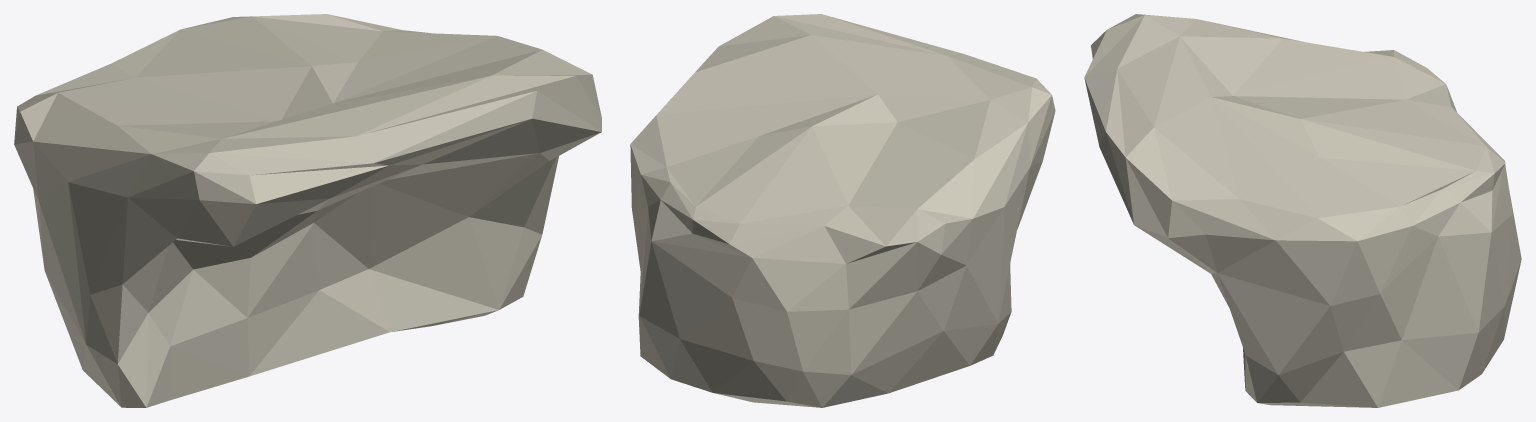
File: Cliff_01.fbx
The picture shows the model from 3 angles, left to right: view 1: azimuth 30°, elevation 25°; view 2: azimuth 150°, elevation 25°; view 3: azimuth 270°, elevation 25°; orthographic projection. The views are drawn at different scales.
Parts seen in each view (by area): view 1: Icosphere.028; view 2: Icosphere.028; view 3: Icosphere.028.
Part boxes in pixels (left/top/right/bottom): Icosphere.028: left=14, top=14, right=601, bottom=407; Icosphere.028: left=630, top=14, right=1055, bottom=407; Icosphere.028: left=1084, top=14, right=1521, bottom=407.
Bounding box in the file's own units: 494 × 323 × 494.
